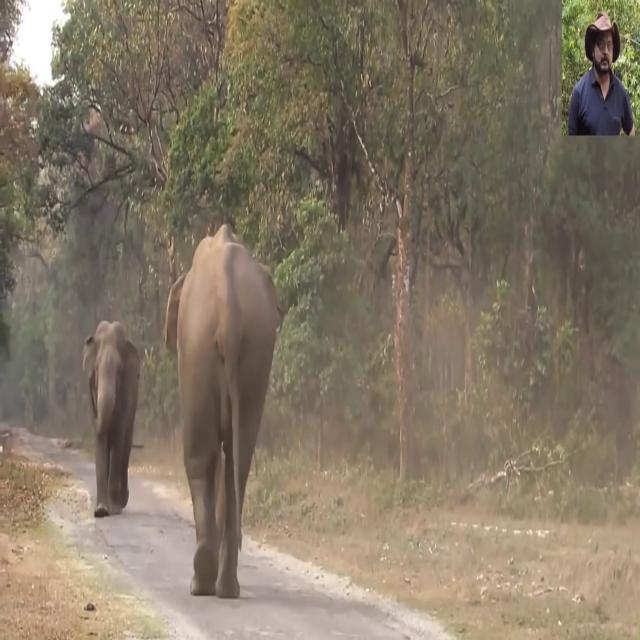Elephant: (163, 223, 281, 598), (81, 319, 141, 517)
